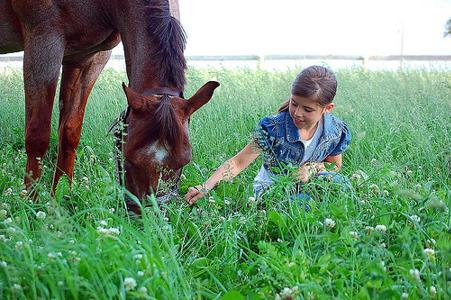person: (186, 67, 357, 214)
